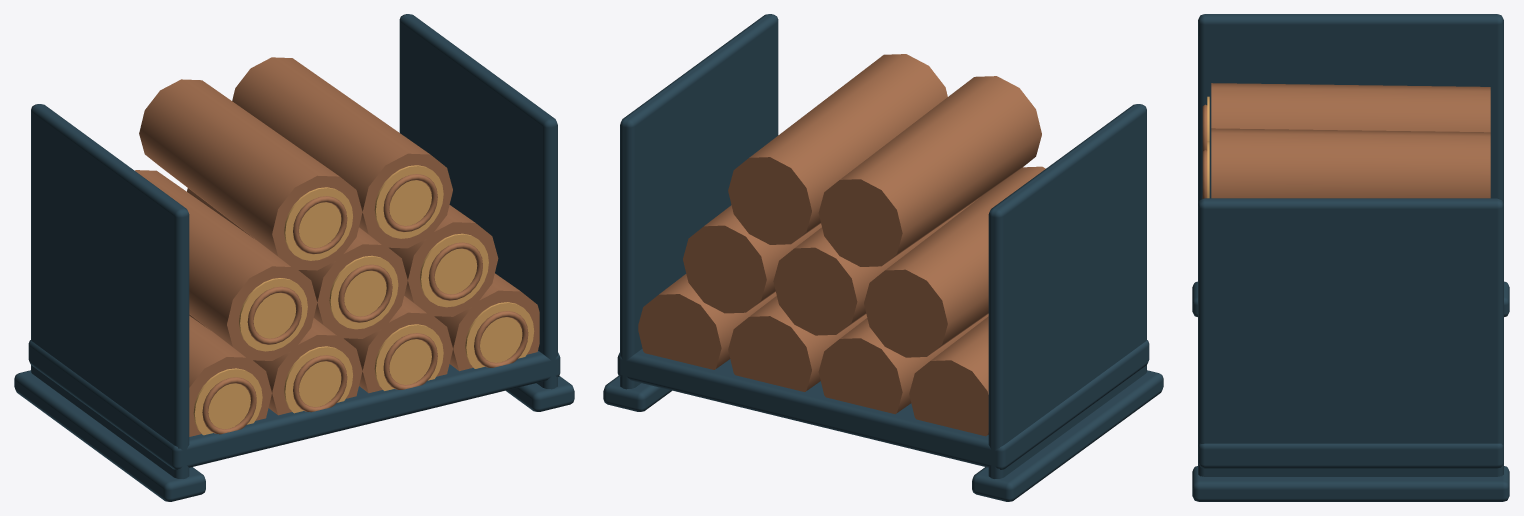
File: storybook-christmas-market-stacked-firewood-rack-d929a704__19706.glb
3 views of the same model, side by side, from view 1: azimuth 30°, elevation 25°; view 2: azimuth 150°, elevation 25°; view 3: azimuth 270°, elevation 25° (orthographic). The views are drawn at different scales.
Parts seen in each view (by area): view 1: stacked-firewood-rack; view 2: stacked-firewood-rack; view 3: stacked-firewood-rack.
Part boxes in pixels (left/top/right/bottom): stacked-firewood-rack: left=14, top=14, right=574, bottom=501; stacked-firewood-rack: left=603, top=14, right=1163, bottom=501; stacked-firewood-rack: left=1192, top=14, right=1509, bottom=501.
Bounding box in the file's own units: 1.27 × 0.85 × 0.83.
